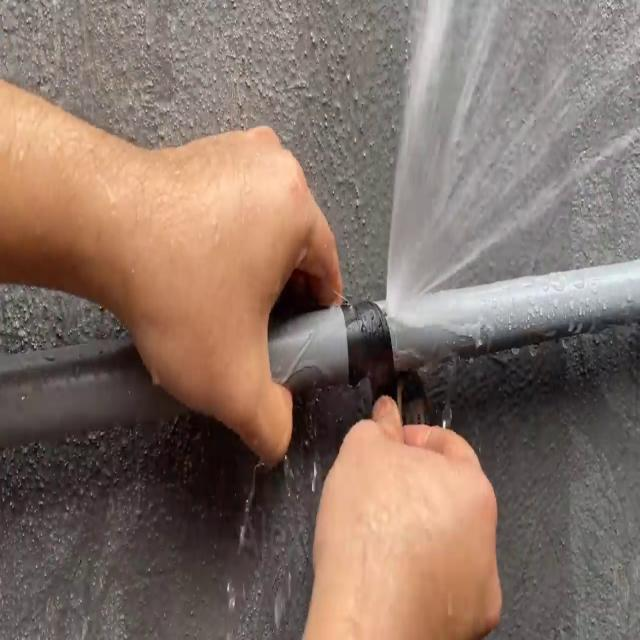leak: (384, 0, 640, 321)
